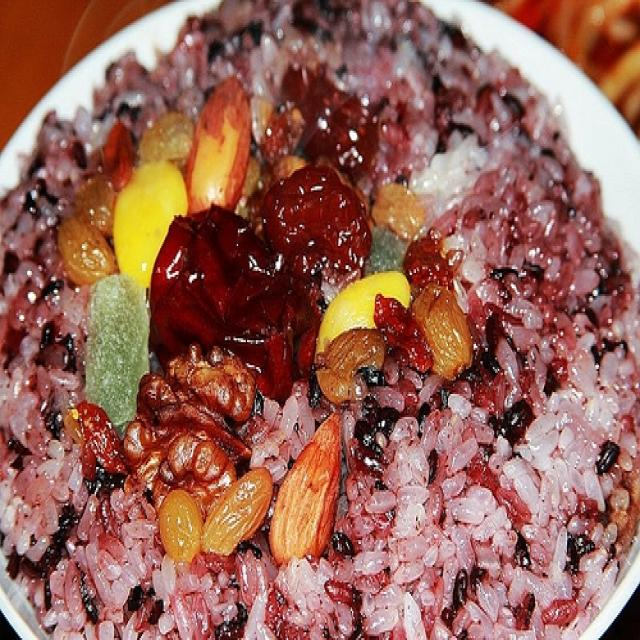米饭主食: (4, 11, 631, 628)
